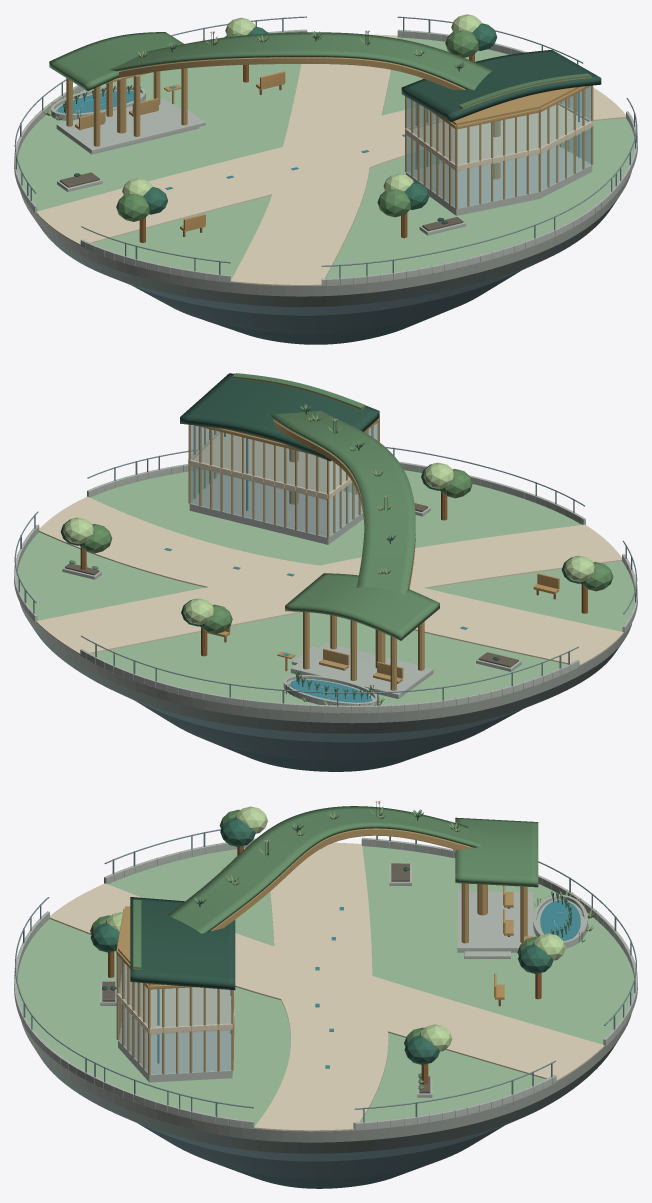
3 renders of one model, top to bottom at view 1: azimuth 30°, elevation 25°; view 2: azimuth 150°, elevation 25°; view 3: azimuth 270°, elevation 25°, orthographic. The views are drawn at different scales.
Parts seen in each view (by area): view 1: ROLE_terrain_Components__grass, ROLE_paving_Components__paveLight, ROLE_building_Components__mistglass, ROLE_roof_Components__ecoLeaf, ROLE_building_Components__ecoWood, ROLE_building_Components__stone2, ROLE_terrain_Components__stone2, ROLE_roof_Components__ecoDeep, ROLE_rails_Components__stone2, ROLE_terrain_Components__cliff3, ROLE_building_Components__paveLight, ROLE_terrain_Components__cliff2 (+14 smaller); view 2: ROLE_terrain_Components__grass, ROLE_paving_Components__paveLight, ROLE_roof_Components__ecoLeaf, ROLE_building_Components__mistglass, ROLE_building_Components__stone2, ROLE_rails_Components__stone2, ROLE_building_Components__ecoWood, ROLE_roof_Components__ecoDeep, ROLE_terrain_Components__stone2, ROLE_terrain_Components__cliff3, ROLE_terrain_Components__cliff2, ROLE_building_Components__paveLight (+12 smaller); view 3: ROLE_terrain_Components__grass, ROLE_paving_Components__paveLight, ROLE_roof_Components__ecoLeaf, ROLE_building_Components__stone2, ROLE_rails_Components__stone2, ROLE_building_Components__mistglass, ROLE_roof_Components__ecoDeep, ROLE_building_Components__ecoWood, ROLE_terrain_Components__stone2, ROLE_terrain_Components__cliff3, ROLE_terrain_Components__cliff2, ROLE_building_Components__paveLight (+12 smaller).
Part boxes in pixels (box(x1,y1,x2,y2)): ROLE_terrain_Components__grass: box(17, 37, 634, 279); ROLE_paving_Components__paveLight: box(36, 34, 625, 285); ROLE_building_Components__mistglass: box(406, 86, 592, 208); ROLE_roof_Components__ecoLeaf: box(49, 32, 492, 91); ROLE_building_Components__ecoWood: box(66, 57, 593, 208); ROLE_building_Components__stone2: box(56, 98, 592, 215); ROLE_terrain_Components__stone2: box(20, 171, 631, 296); ROLE_roof_Components__ecoDeep: box(401, 50, 601, 122); ROLE_rails_Components__stone2: box(14, 29, 637, 286); ROLE_terrain_Components__cliff3: box(35, 199, 617, 307); ROLE_building_Components__paveLight: box(405, 102, 593, 171); ROLE_terrain_Components__cliff2: box(132, 271, 519, 333); ROLE_terrain_Components__grass: box(17, 470, 634, 704); ROLE_paving_Components__paveLight: box(36, 496, 623, 665); ROLE_roof_Components__ecoLeaf: box(271, 410, 439, 640); ROLE_building_Components__mistglass: box(190, 422, 378, 537); ROLE_building_Components__stone2: box(189, 474, 433, 698); ROLE_rails_Components__stone2: box(14, 461, 637, 713); ROLE_building_Components__ecoWood: box(188, 418, 424, 690); ROLE_roof_Components__ecoDeep: box(180, 373, 379, 461); ROLE_terrain_Components__stone2: box(19, 602, 631, 723); ROLE_terrain_Components__cliff3: box(30, 624, 621, 733); ROLE_terrain_Components__cliff2: box(136, 701, 522, 760); ROLE_building_Components__paveLight: box(188, 431, 352, 499); ROLE_terrain_Components__grass: box(17, 846, 634, 1126); ROLE_paving_Components__paveLight: box(50, 842, 604, 1131); ROLE_roof_Components__ecoLeaf: box(167, 806, 538, 933); ROLE_building_Components__stone2: box(118, 891, 533, 1082); ROLE_rails_Components__stone2: box(14, 837, 637, 1130); ROLE_building_Components__mistglass: box(117, 956, 231, 1074); ROLE_roof_Components__ecoDeep: box(130, 897, 235, 990); ROLE_building_Components__ecoWood: box(116, 828, 527, 1074); ROLE_terrain_Components__stone2: box(21, 1013, 631, 1142); ROLE_terrain_Components__cliff3: box(34, 1040, 618, 1153); ROLE_terrain_Components__cliff2: box(138, 1123, 504, 1179); ROLE_building_Components__paveLight: box(116, 964, 234, 1034).
Size of the model in its own units: 33.65 by 16.53 by 30.81.
